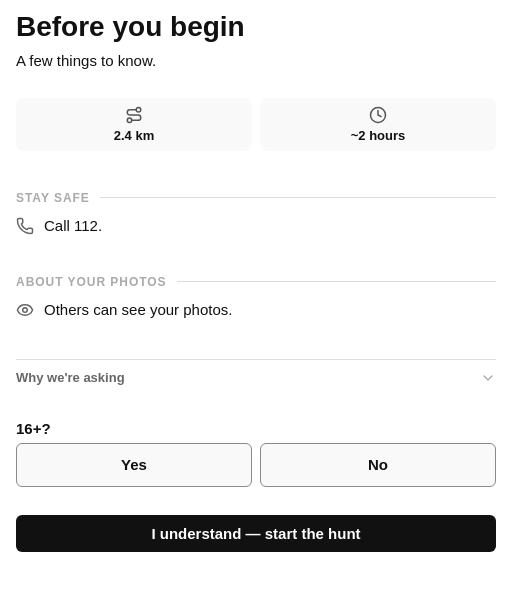
Test: renders the 'why we're asking' fold collapsed by default, expandable on click
Expected: the text "Why we're asking" is shown, 16,370 -> 125,385
Expected: the text "We run this hunt to register voters." is not shown
Step 1. Click the button "Why we're asking" → coordinates (70, 378), box 16,359 -> 496,396
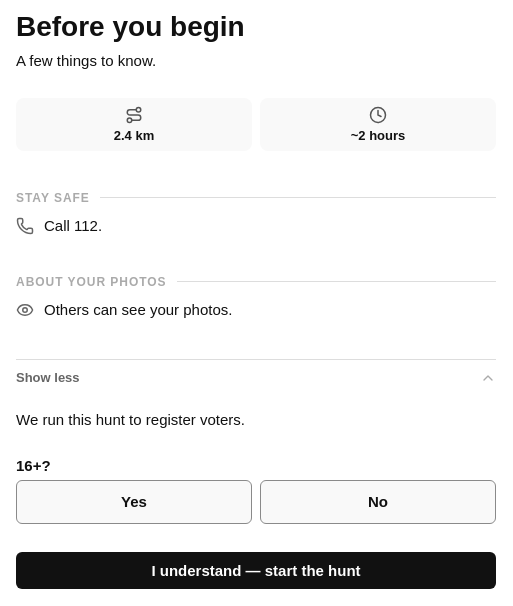
Expected: the text "We run this hunt to register voters." is shown, 16,411 -> 245,428
